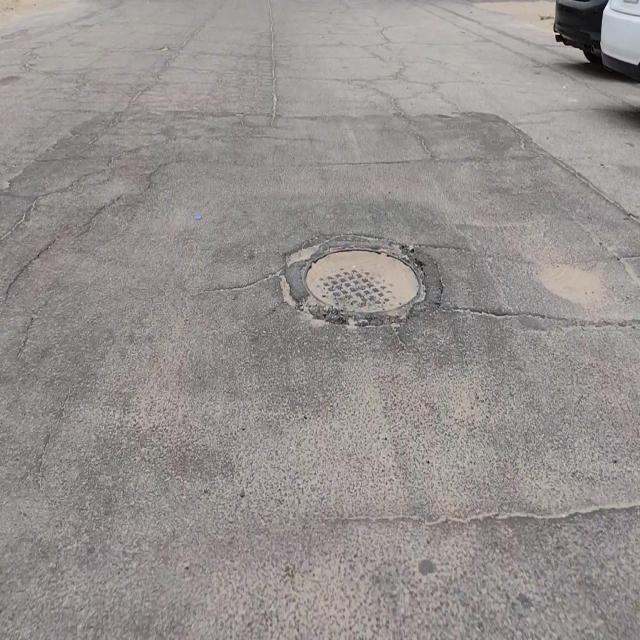Pothole: (300, 240, 425, 315)
